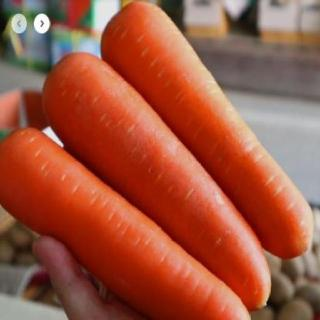carrot: (37, 53, 275, 310), (100, 0, 314, 260), (2, 125, 253, 320)
